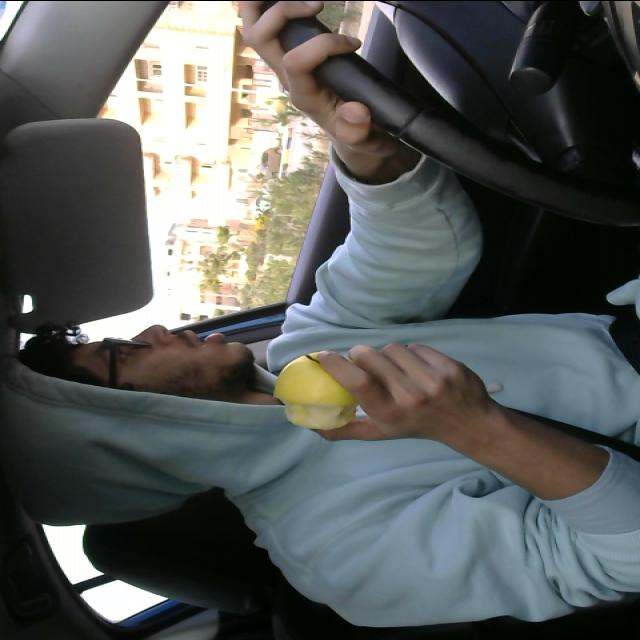eating: (266, 347, 366, 431)
